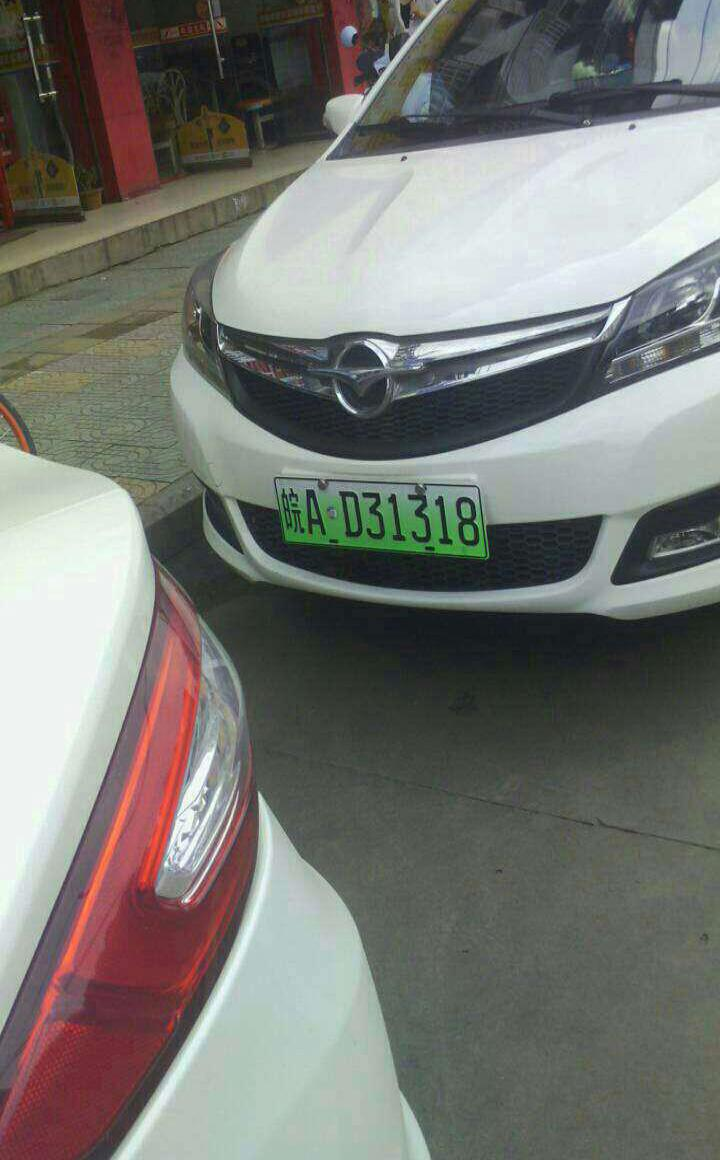car_id: (277, 478, 487, 555)
